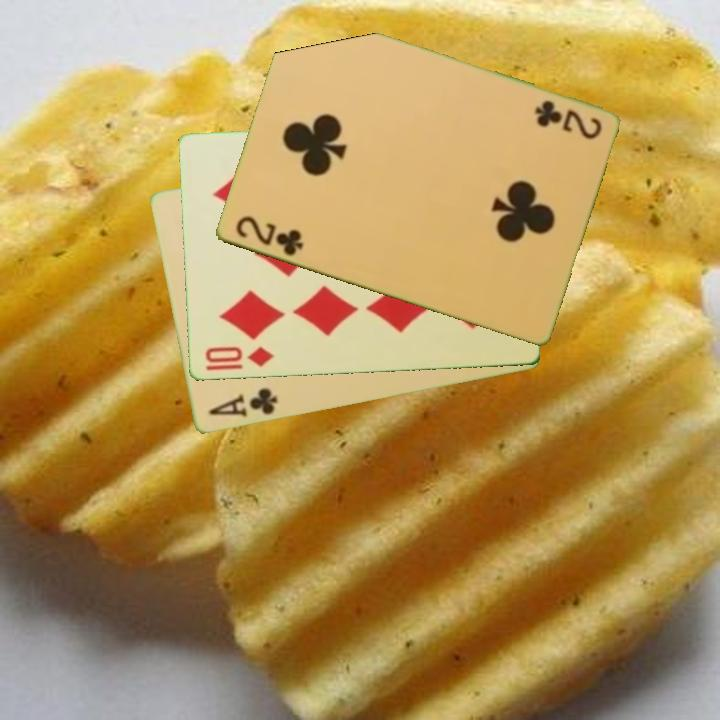10d: (202, 343, 276, 374)
2c: (232, 212, 306, 259), (530, 96, 604, 143)
Ac: (205, 385, 280, 420)
